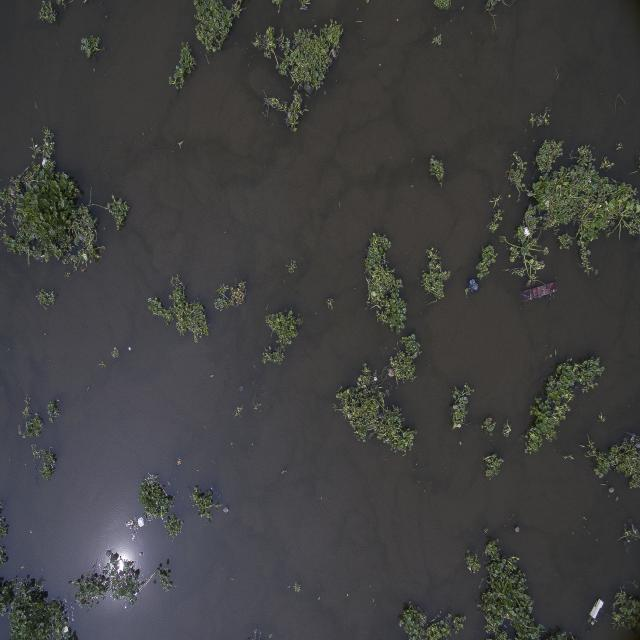plastic: (584, 592, 610, 634), (33, 152, 64, 176), (464, 269, 484, 300), (132, 509, 148, 535), (59, 620, 74, 640), (519, 228, 532, 245)
